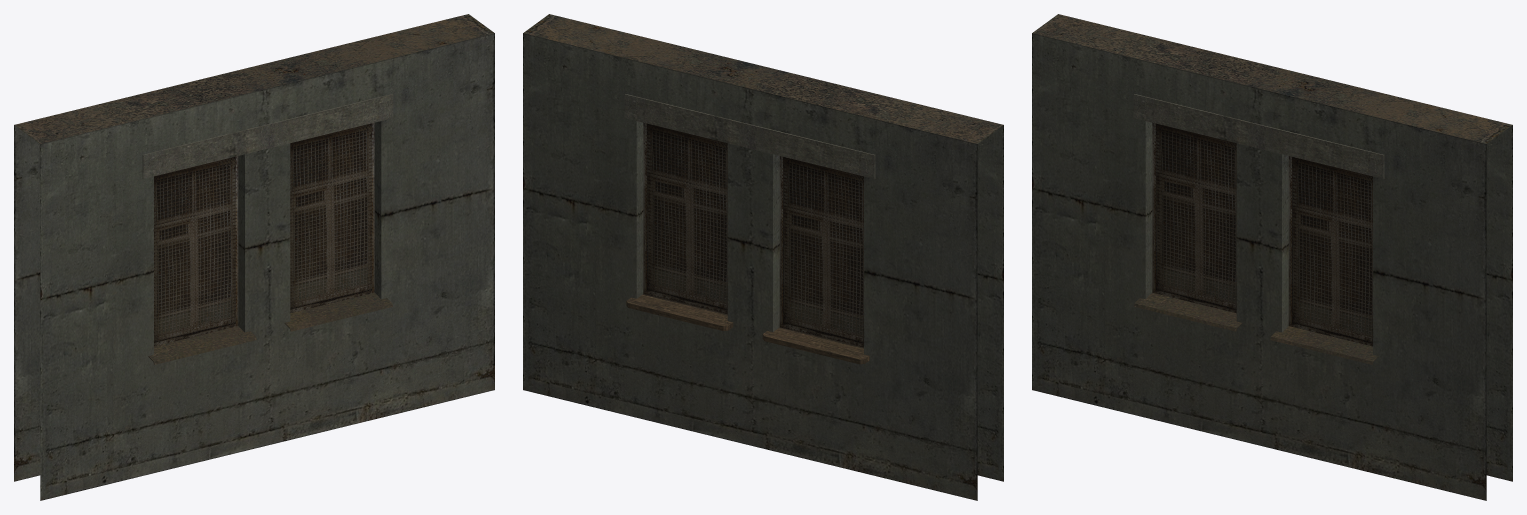
Rendered from windows_rg_1.obj.
3 renders of one model, left to right at view 1: azimuth 30°, elevation 25°; view 2: azimuth 150°, elevation 25°; view 3: azimuth 330°, elevation 25°, orthographic.
Parts seen in each view (by area): view 1: windows_rg_1; view 2: windows_rg_1; view 3: windows_rg_1.
Boxes of the visible parts, x1,y1,x2,y2 form: windows_rg_1: [14, 14, 494, 500]; windows_rg_1: [523, 14, 1003, 500]; windows_rg_1: [1032, 14, 1512, 500].
Size of the model in its own units: 4 by 3 by 0.595.
